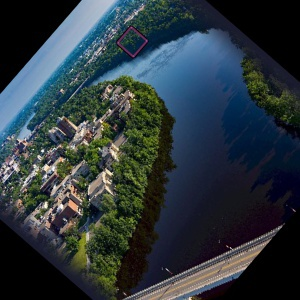square: (115, 25, 150, 59)
